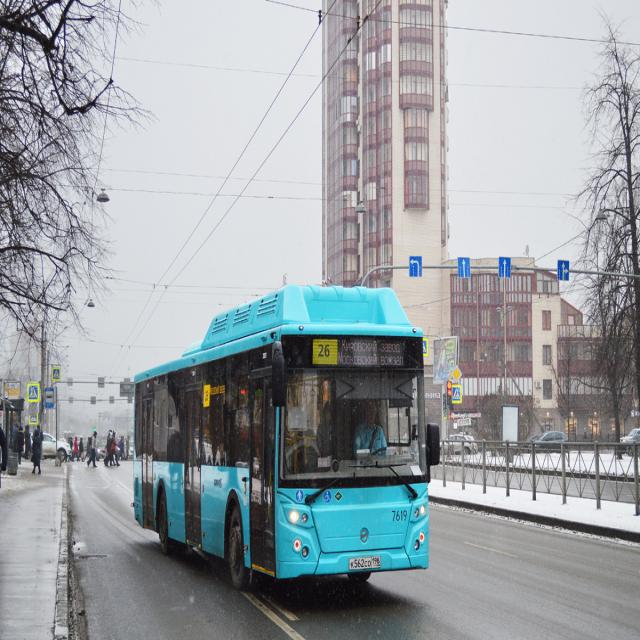number-of-bus: (317, 342, 337, 364)
